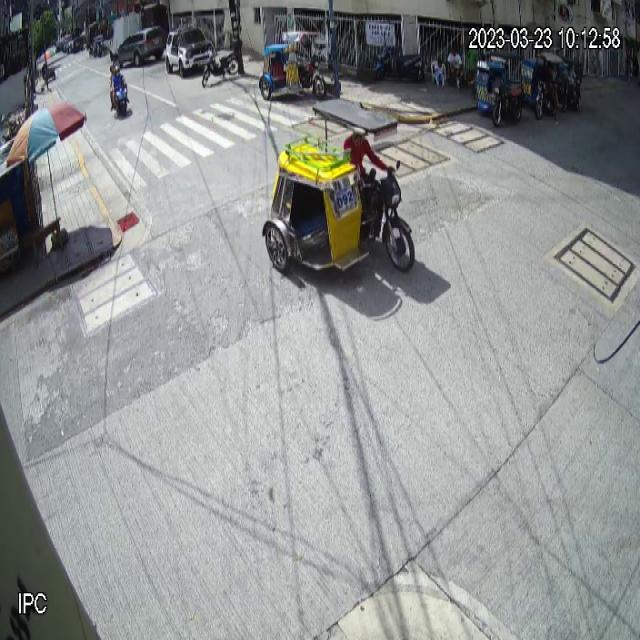Tricycle: (262, 98, 416, 288), (259, 30, 327, 104), (475, 51, 524, 127)
